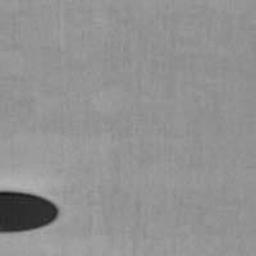Punching: (0, 191, 58, 232)
